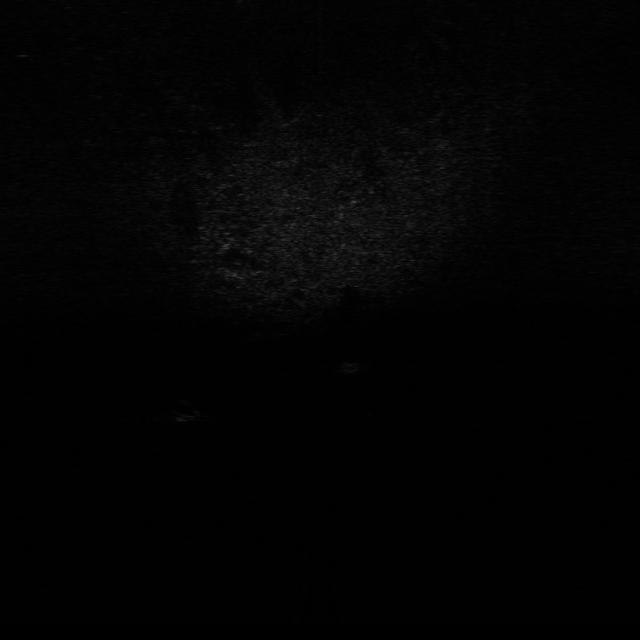ball: (170, 398, 206, 426)
cube: (337, 358, 359, 382)
